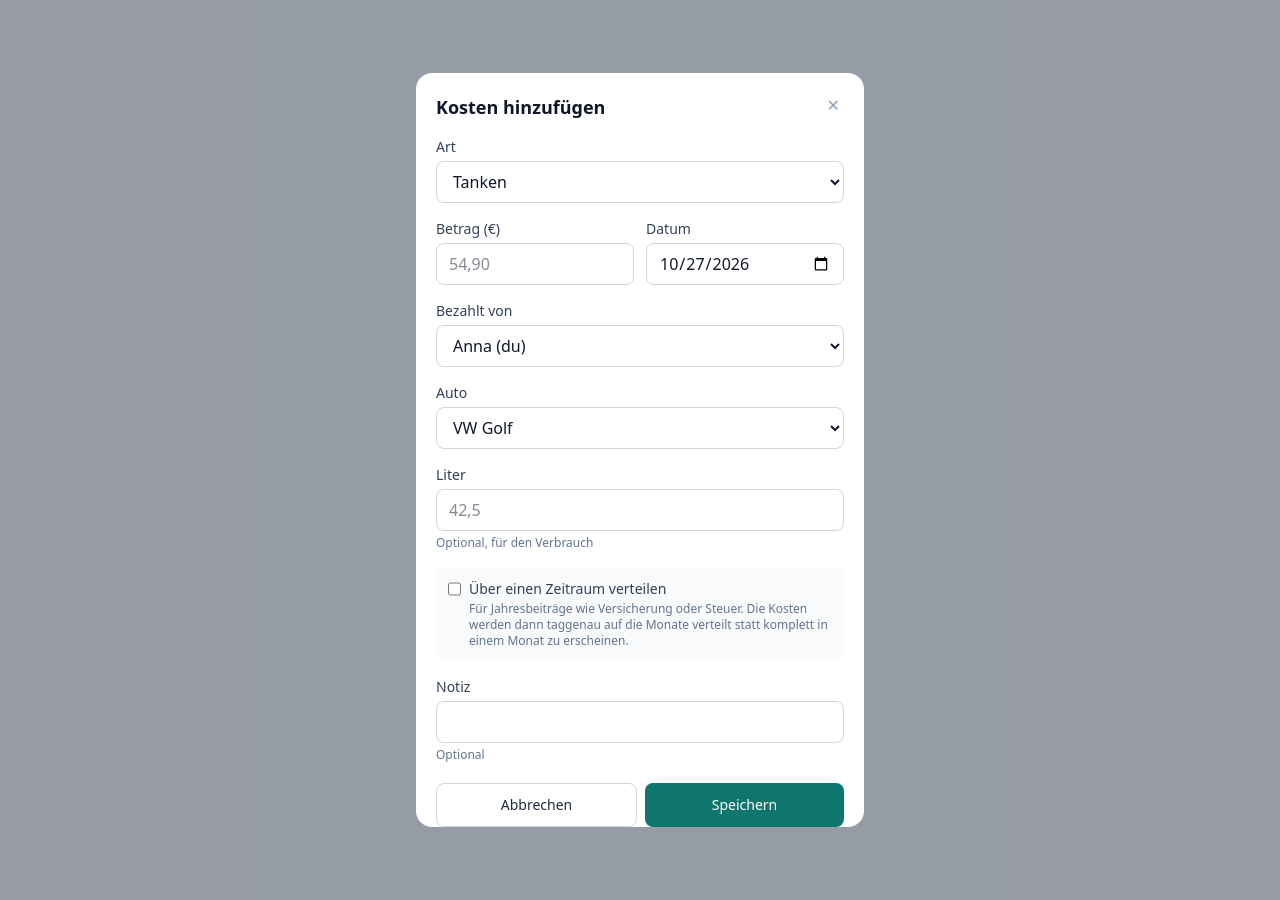
Test: fuel and electric cars › switches back to Tanken when a fuel car is picked again
Select "VW e-Up (Elektro)" in the dropdown labelled "Auto" at [640, 428], box [436, 407, 844, 449]
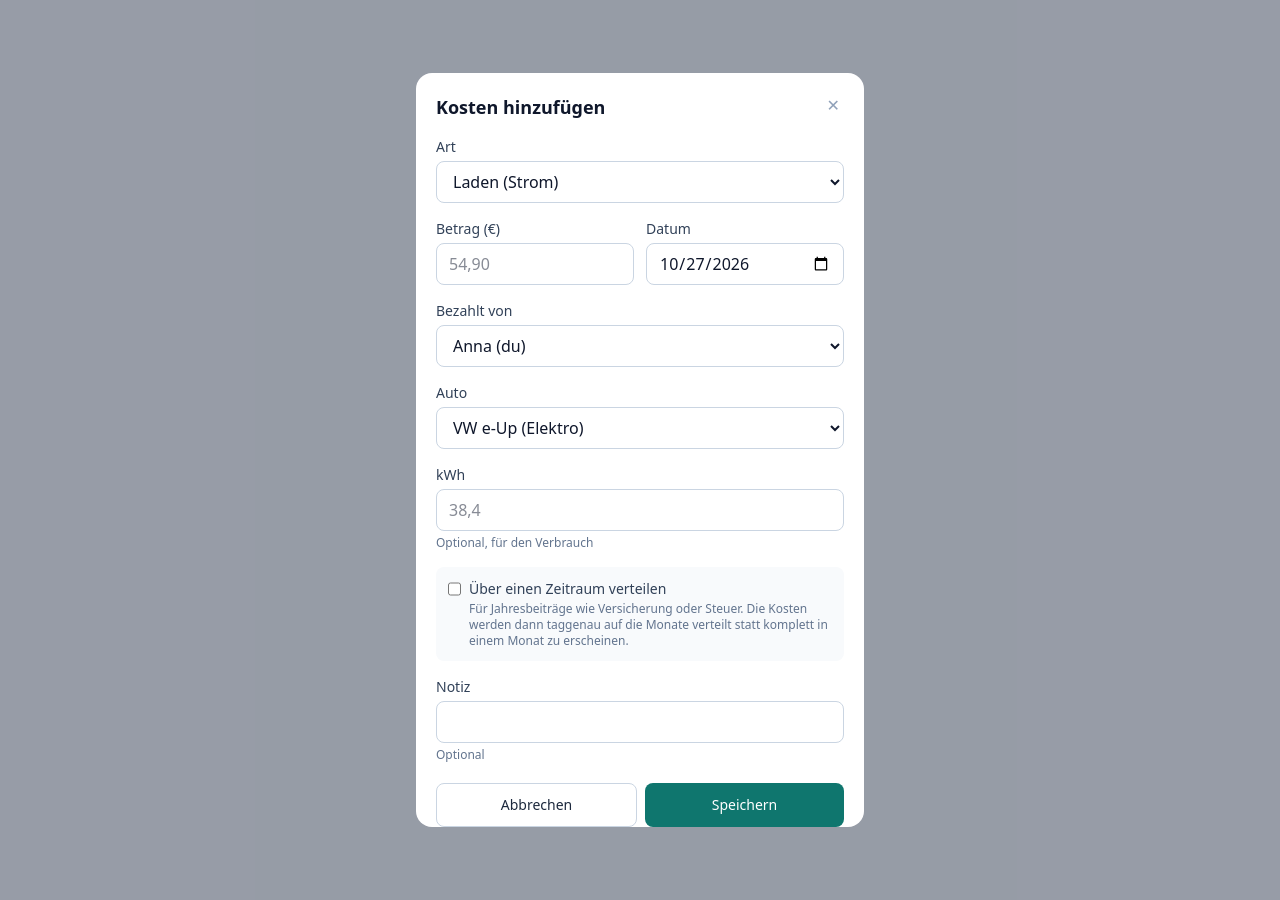
Select "VW Golf" in the dropdown labelled "Auto" at [640, 428], box [436, 407, 844, 449]
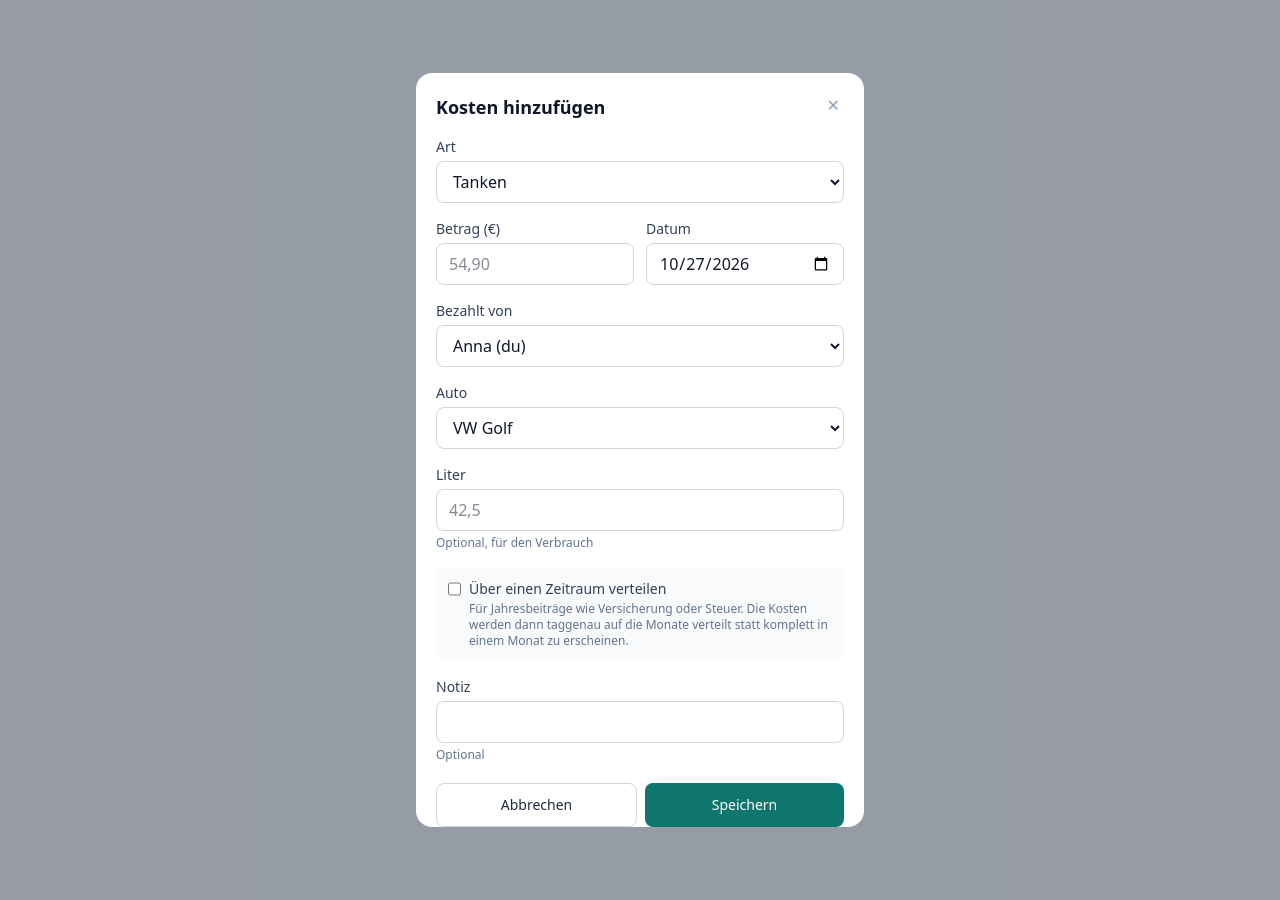
Expected: the field labelled "Liter Optional, für den Verbrauch" is shown, [436, 489, 844, 531]
Now the dropdown labelled "Art" shows "Tanken", box [436, 161, 844, 203]
